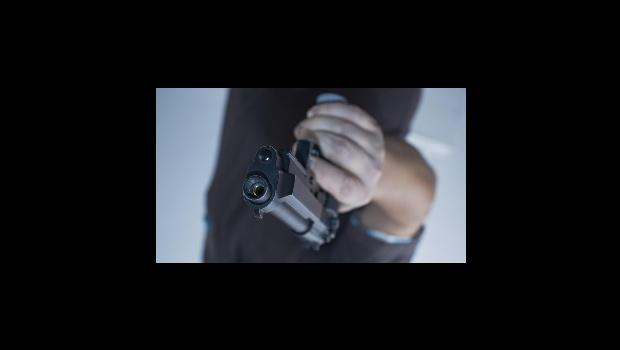weapon: (238, 88, 366, 252)
